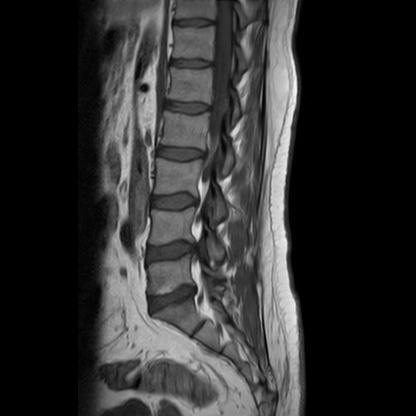Disc Bulgerotation: (142, 237, 202, 272), (144, 283, 206, 315)
